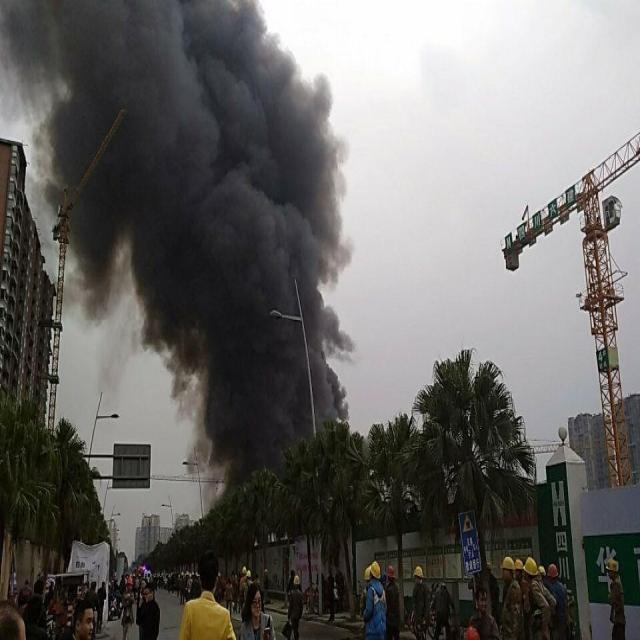Smoke: (1, 1, 356, 509)
